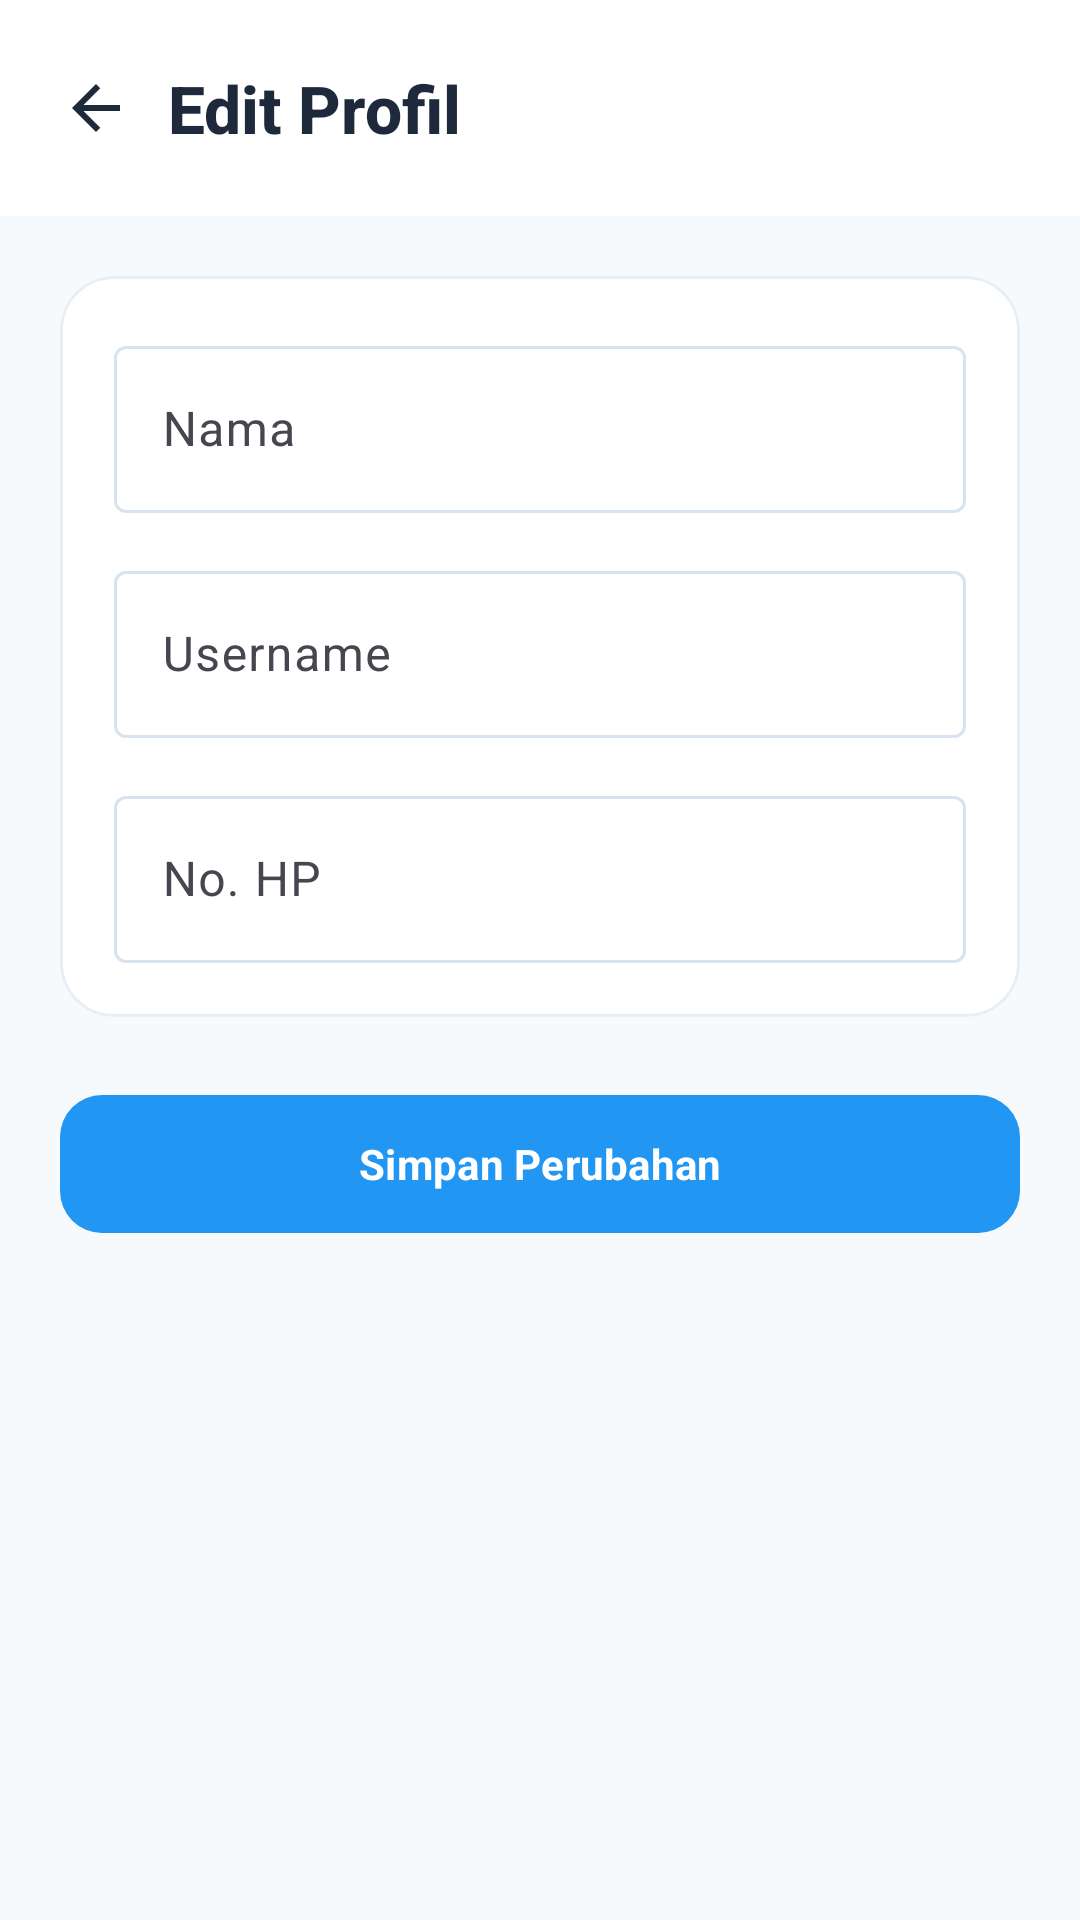

Point at icon controls on the screen. Image size 1080*1920, points as (x,y).
Kembali: (96,108)
